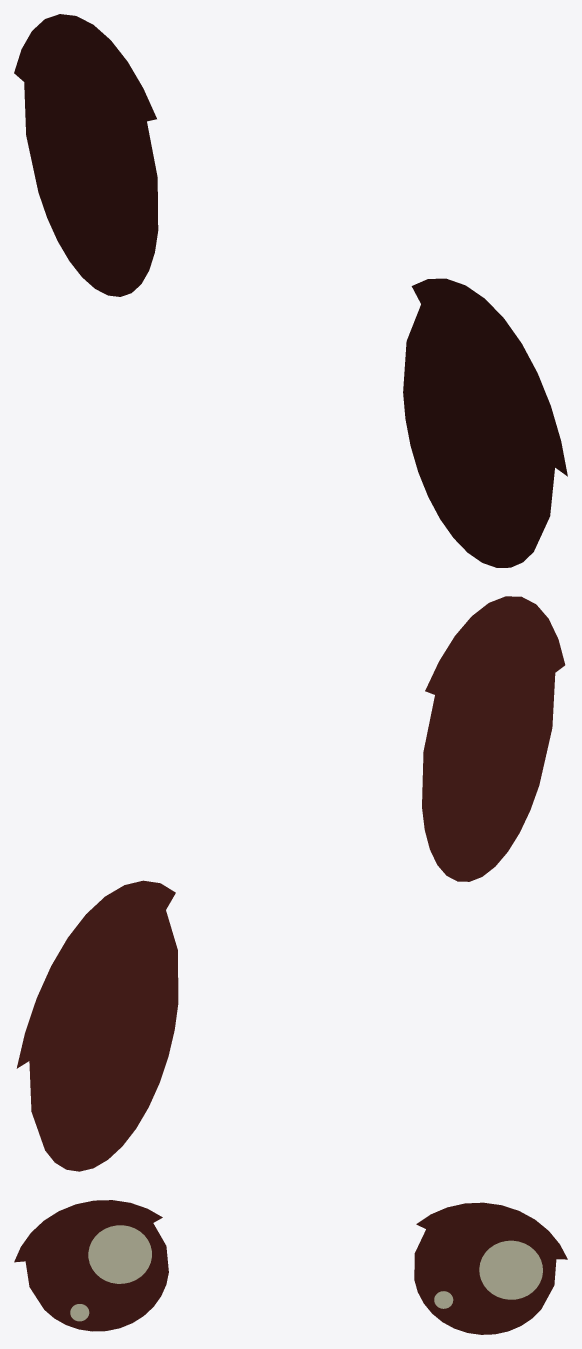
Rendered from MandaEyes.glb.
3 renders of one model, top to bottom at view 1: azimuth 30°, elevation 25°; view 2: azimuth 150°, elevation 25°; view 3: azimuth 270°, elevation 25°, orthographic. The views are drawn at different scales.
Visible parts, largest first — view 1: MandaEyes; view 2: MandaEyes; view 3: MandaEyes.
Boxes of the visible parts, x1,y1,x2,y2 form: MandaEyes: [14, 14, 567, 567]; MandaEyes: [16, 596, 565, 1171]; MandaEyes: [14, 1200, 567, 1334].
Size of the model in its own units: 0.0526 by 0.8241 by 3.04.
